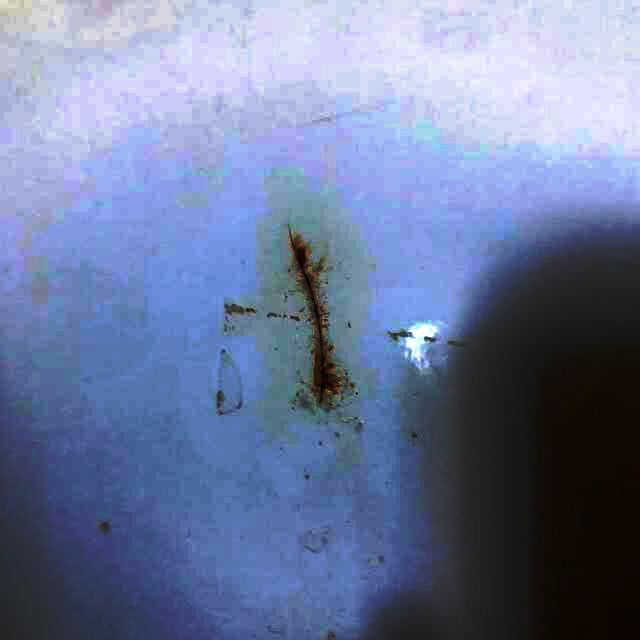Corrosion: (288, 235, 350, 403)
